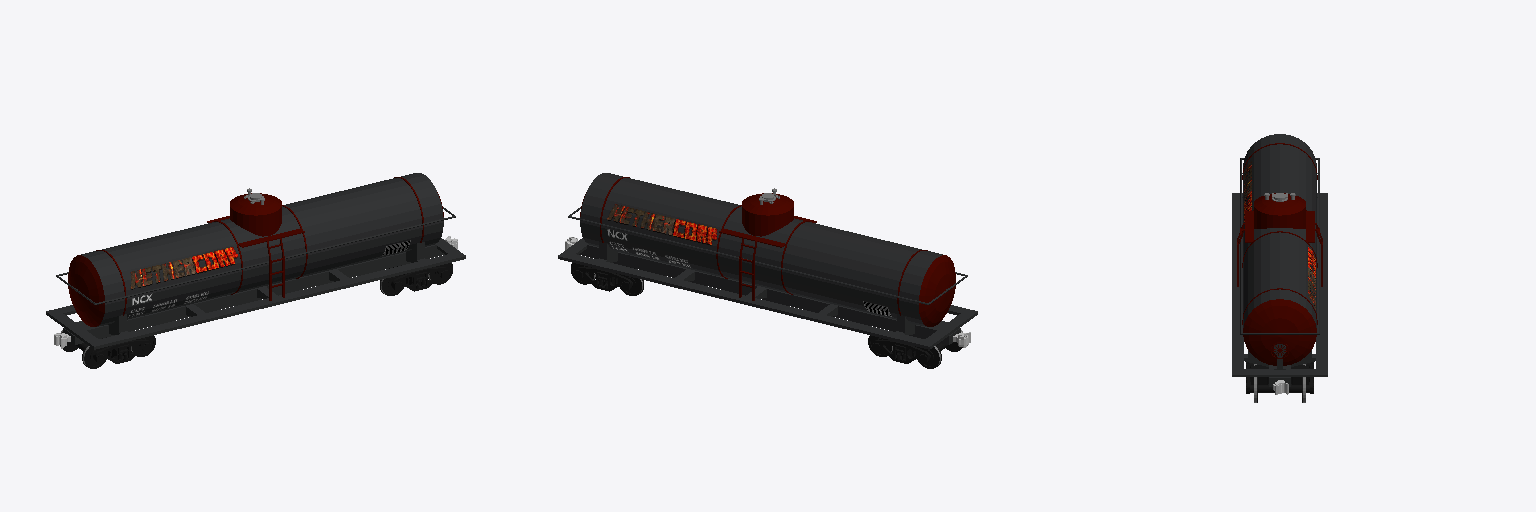
3 views of the same model, side by side, from view 1: azimuth 30°, elevation 25°; view 2: azimuth 150°, elevation 25°; view 3: azimuth 270°, elevation 25° (orthographic).
Visible parts, largest first — view 1: FRAME_TANK, FRAME, FRAME_top, Handrails, BOGEY_FRONT, BOGEY_REAR, obj1; view 2: FRAME_TANK, FRAME, FRAME_top, Handrails, BOGEY_FRONT, BOGEY_REAR, obj1; view 3: FRAME_TANK, FRAME, FRAME_top, Handrails, FRAME_thing, BOGEY_REAR.
Boxes of the visible parts, box(x1,y1,x2,y2) form: FRAME_TANK: box(68, 173, 443, 326); FRAME: box(46, 238, 465, 349); FRAME_top: box(230, 193, 281, 236); Handrails: box(56, 207, 455, 304); BOGEY_FRONT: box(94, 337, 151, 363); BOGEY_REAR: box(389, 265, 448, 291); obj1: box(96, 177, 423, 315); FRAME_TANK: box(580, 173, 955, 326); FRAME: box(558, 238, 977, 349); FRAME_top: box(742, 193, 793, 236); Handrails: box(568, 207, 967, 304); BOGEY_FRONT: box(872, 337, 929, 363); BOGEY_REAR: box(575, 265, 634, 291); obj1: box(600, 177, 927, 315); FRAME_TANK: box(1243, 134, 1316, 365); FRAME: box(1232, 193, 1327, 386); FRAME_top: box(1254, 193, 1305, 228); Handrails: box(1240, 158, 1319, 334); FRAME_thing: box(1245, 211, 1314, 242); BOGEY_REAR: box(1246, 362, 1313, 393).
Bounding box in the file's own units: 14.3 × 4.22 × 3.
2 materials, 1 textured.